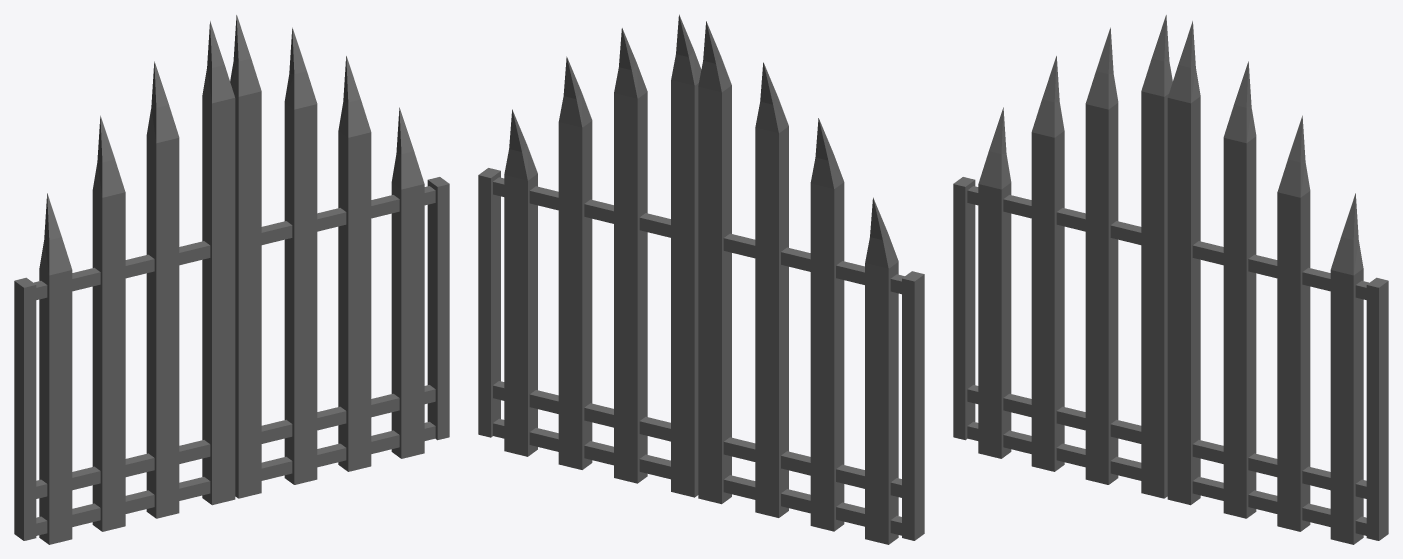
File: Bar Gate 01.FBX
The picture shows the model from 3 angles, left to right: view 1: azimuth 30°, elevation 25°; view 2: azimuth 150°, elevation 25°; view 3: azimuth 330°, elevation 25°; orthographic projection. The views are drawn at different scales.
Parts seen in each view (by area): view 1: Bar Gate 01 Right, Bar Gate 01 Left; view 2: Bar Gate 01 Right, Bar Gate 01 Left; view 3: Bar Gate 01 Left, Bar Gate 01 Right.
Part boxes in pixels (box(x1,y1,x2,y2)): Bar Gate 01 Right: box(14, 21, 235, 544); Bar Gate 01 Left: box(230, 15, 449, 498); Bar Gate 01 Right: box(698, 21, 924, 544); Bar Gate 01 Left: box(478, 14, 701, 497); Bar Gate 01 Left: box(1167, 21, 1388, 544); Bar Gate 01 Right: box(953, 15, 1172, 498).
Size of the model in its own units: 274 by 290 by 15.14.
